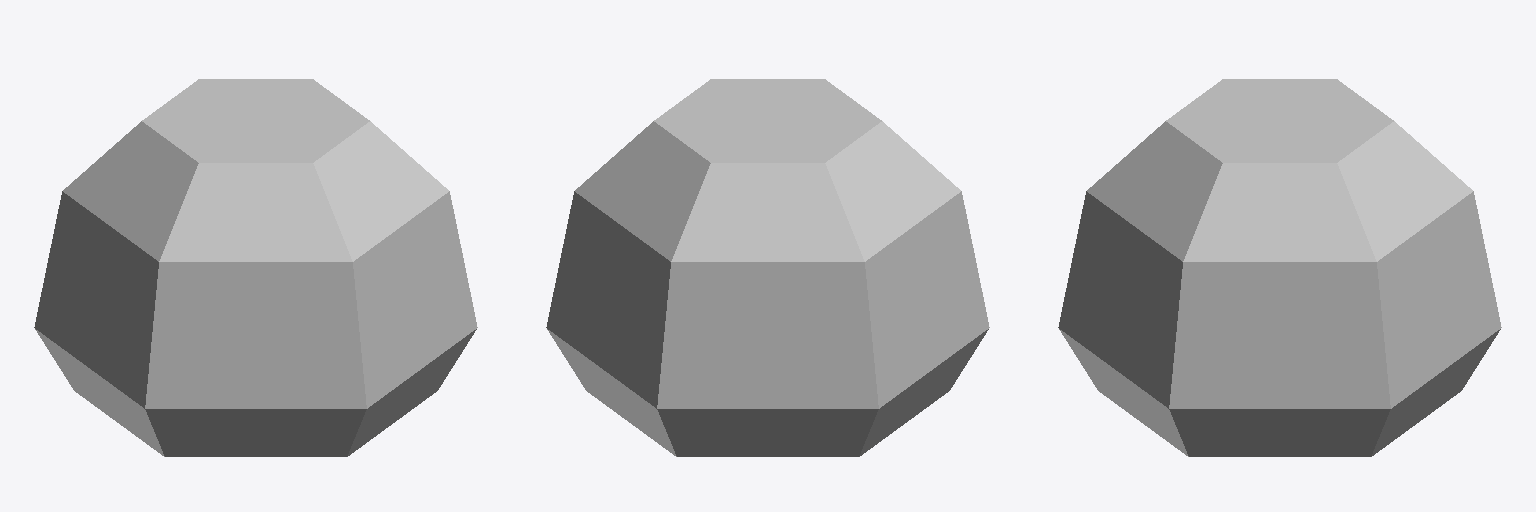
Rendered from stone_smallI.obj.
The picture shows the model from 3 angles: view 1: azimuth 30°, elevation 25°; view 2: azimuth 150°, elevation 25°; view 3: azimuth 270°, elevation 25°; orthographic projection.
Parts seen in each view (by area): view 1: stone_smallI; view 2: stone_smallI; view 3: stone_smallI.
Boxes of the visible parts, box(x1,y1,x2,y2) form: stone_smallI: box(34, 79, 477, 456); stone_smallI: box(546, 79, 989, 456); stone_smallI: box(1058, 79, 1501, 456).
Size of the model in its own units: 0.3583 by 0.2778 by 0.4138.